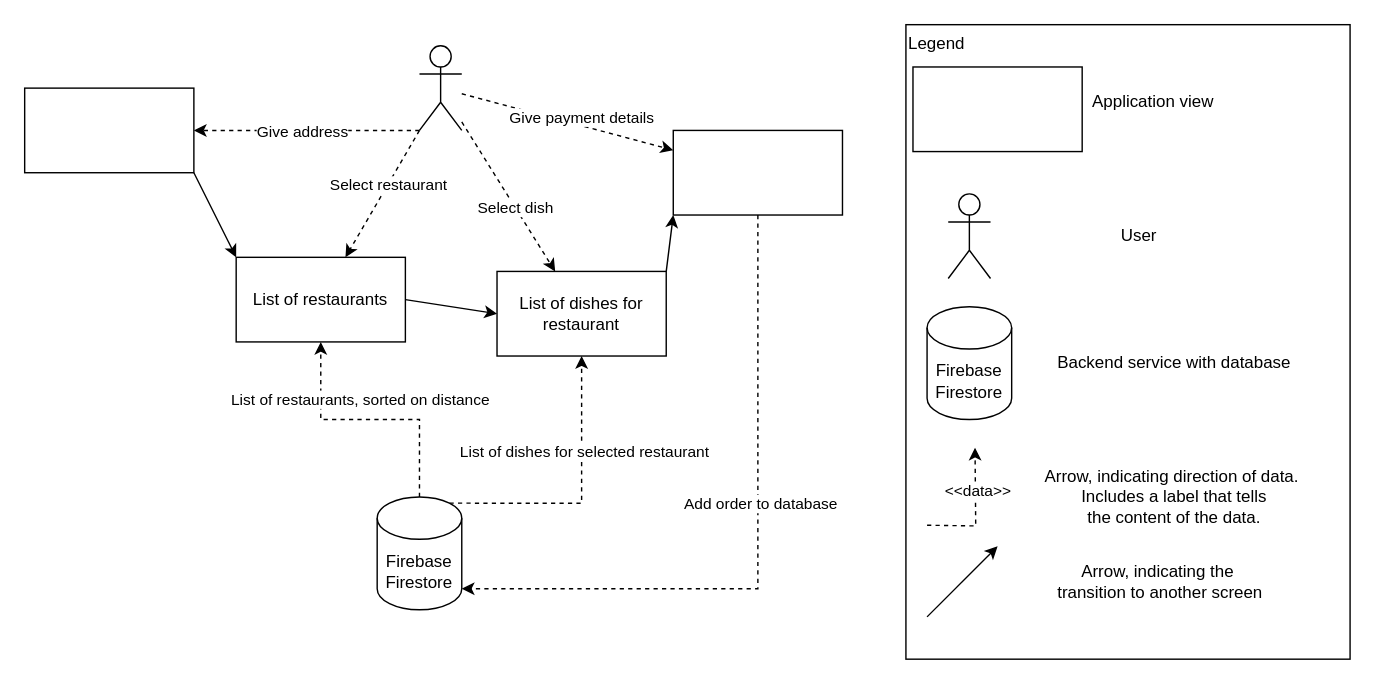
This 1375x684 diagram has some shape labels left out. The centre of each missing label's shape, as x and y in pixels:
"<<title>>" belongs at point 997,109.
"Address input" belongs at point 108,130.
"Order dish" belongs at point 757,172.
